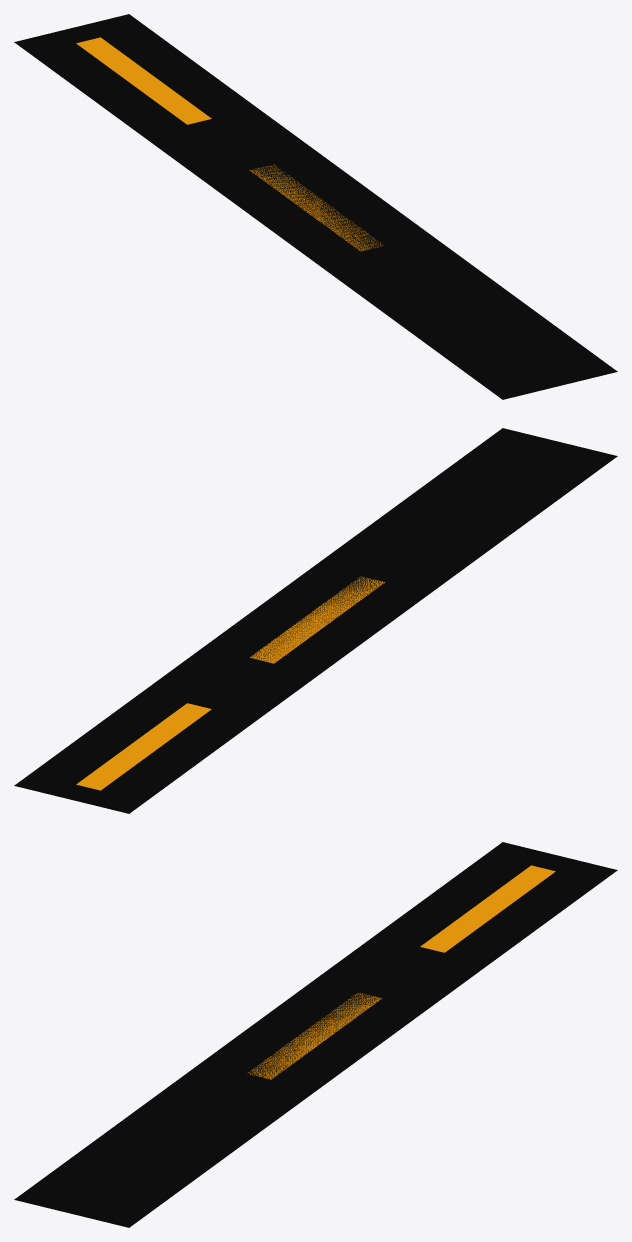
The model's file is road.fbx.
3 renders of one model, top to bottom at view 1: azimuth 30°, elevation 25°; view 2: azimuth 150°, elevation 25°; view 3: azimuth 330°, elevation 25°, orthographic.
Visible parts, largest first — view 1: Plane, Plane.001, Plane.002; view 2: Plane, Plane.001, Plane.002; view 3: Plane, Plane.001, Plane.002.
Part boxes in pixels (left/top/right/bottom): Plane: left=14, top=14, right=617, bottom=399; Plane.001: left=76, top=37, right=211, bottom=124; Plane.002: left=250, top=164, right=383, bottom=251; Plane: left=14, top=428, right=617, bottom=813; Plane.001: left=76, top=703, right=211, bottom=790; Plane.002: left=250, top=576, right=384, bottom=663; Plane: left=14, top=842, right=617, bottom=1227; Plane.001: left=420, top=865, right=555, bottom=952; Plane.002: left=247, top=993, right=381, bottom=1079.
Size of the model in its own units: 11326 by 0.0136 by 83215.
